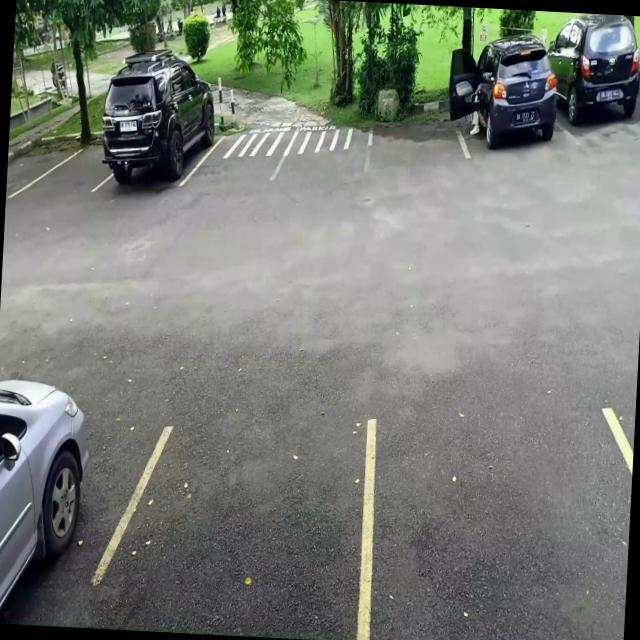car: (96, 66, 216, 197), (458, 42, 560, 162), (554, 27, 640, 146)
free: (356, 398, 635, 640), (134, 406, 377, 640), (35, 134, 107, 198)
